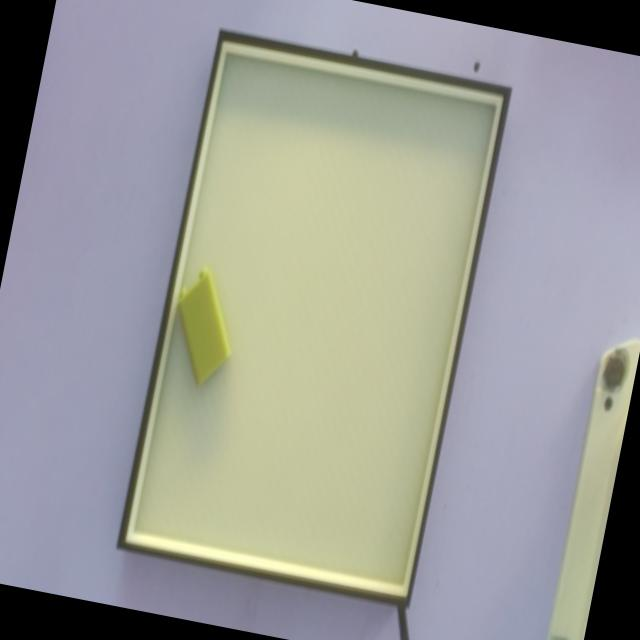bateria: (176, 267, 232, 389)
mesa: (116, 29, 513, 608)
